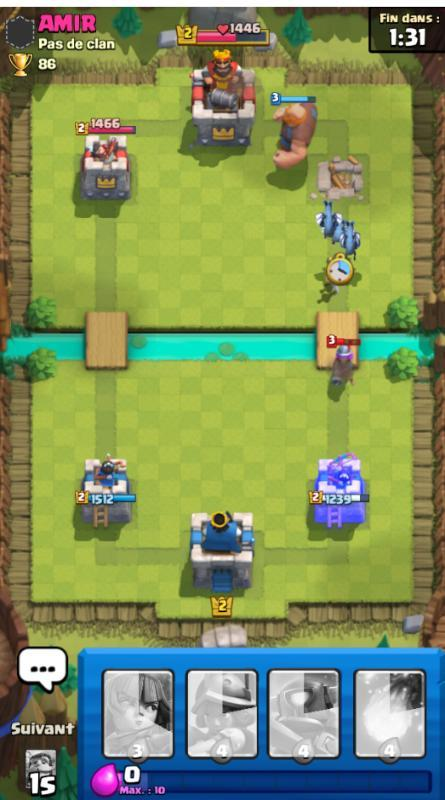enemy_musketeer: (319, 332, 364, 389)
player_giant: (269, 90, 320, 171)
player_minions: (336, 216, 363, 258), (314, 197, 341, 239)
